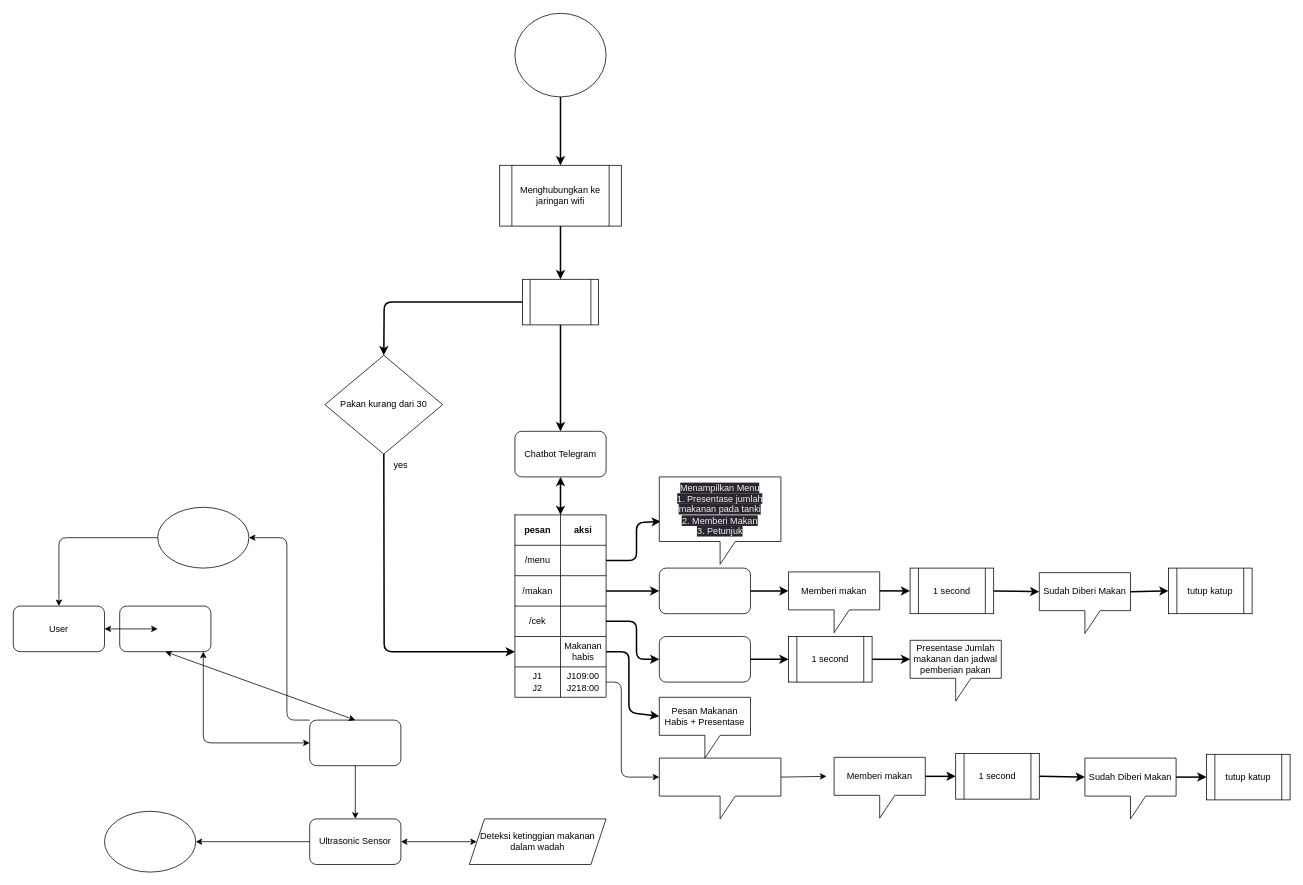
Some shapes in this 1303 by 885 pixel diagram are drawn without their labels. Here are the shapes that lost their labels. From the top down, the box of each, then its label:
(514, 13, 606, 97): Start
(522, 279, 598, 325): Memulai Program
(157, 507, 249, 568): notifikasi sudah diberi makan
(659, 567, 750, 614): Buka tutup Katup
(119, 605, 211, 652): Servo
(659, 636, 750, 682): Deteksi jumlah makanan
(309, 719, 401, 766): Fish Feeder Automatic
(659, 757, 781, 819): set jadwal 2 kali makan sehari
(104, 811, 196, 872): Notifikasi jumlah makanan dalam wadah
